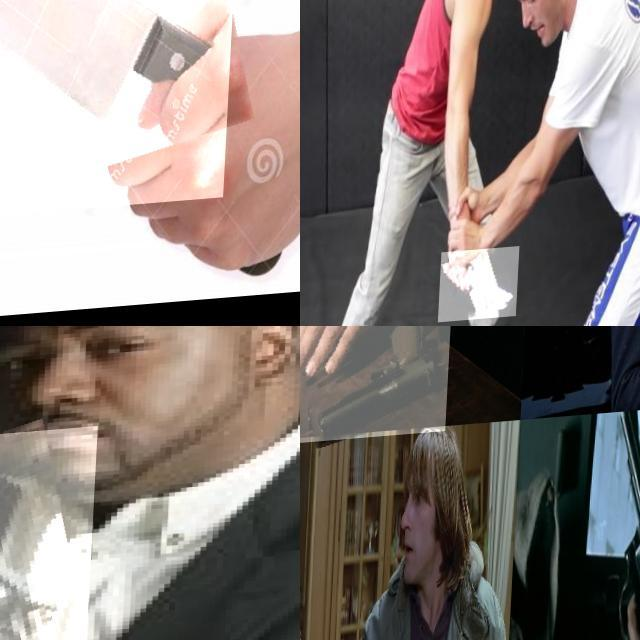-: (0, 0, 250, 268), (442, 252, 523, 326)
gun-knife-thesis - v11 Yolov5 augmented: (0, 431, 140, 640), (300, 326, 454, 445), (609, 415, 640, 640), (300, 573, 335, 640)
